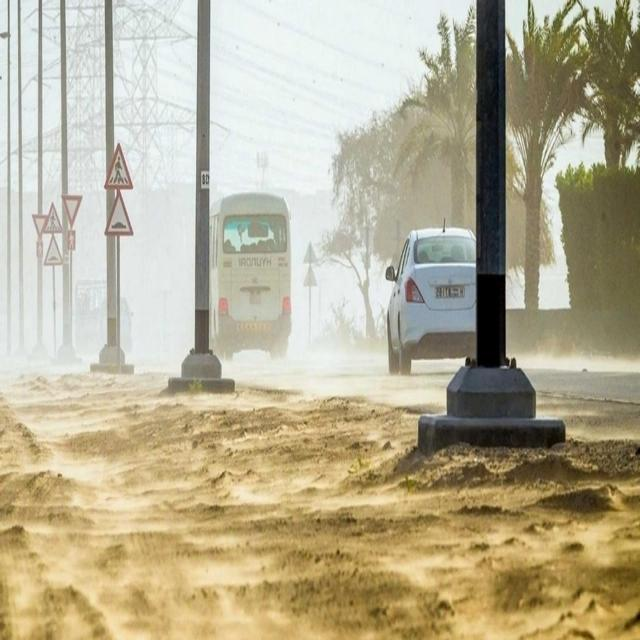Bus: (210, 190, 294, 362)
Car: (383, 218, 475, 370)
